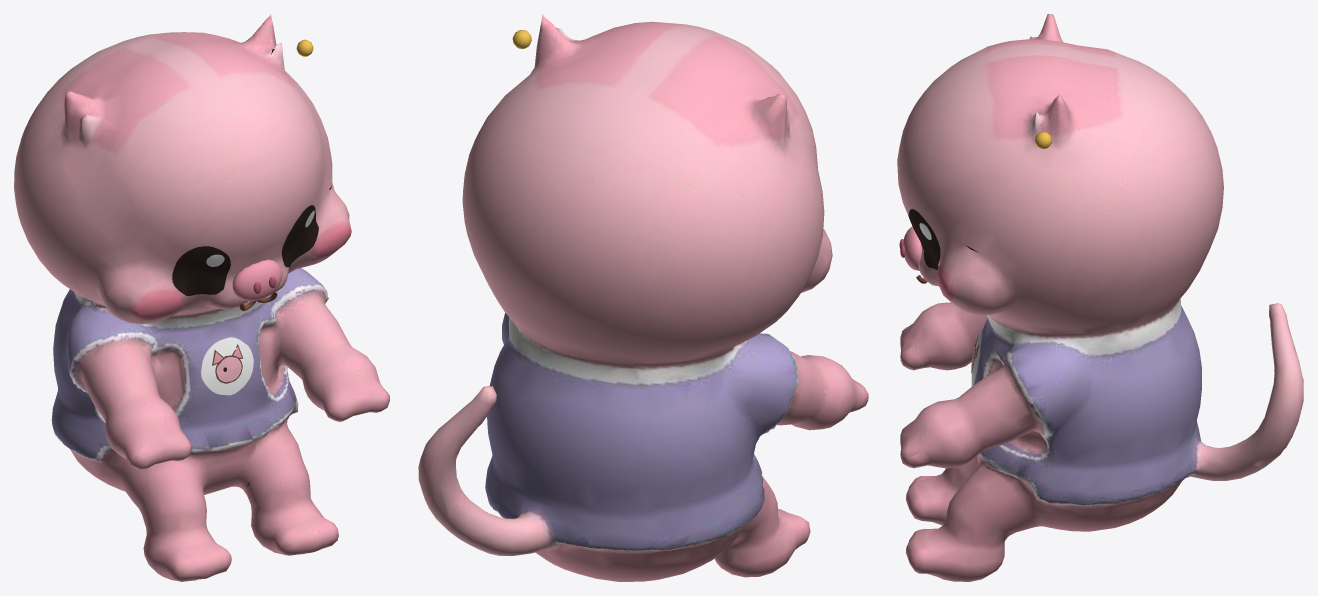
The model's file is pig.glb.
3 renders of one model, left to right at view 1: azimuth 30°, elevation 25°; view 2: azimuth 150°, elevation 25°; view 3: azimuth 270°, elevation 25°, orthographic. The views are drawn at different scales.
Parts seen in each view (by area): view 1: chibi, face; view 2: chibi; view 3: chibi, face.
Boxes of the visible parts, bbox=[...] form: chibi: bbox=[14, 14, 389, 581]; face: bbox=[172, 39, 318, 395]; chibi: bbox=[418, 14, 868, 581]; chibi: bbox=[897, 14, 1303, 581]; face: bbox=[899, 132, 1051, 386].
Bounding box in the file's own units: 0.6791 × 1.14 × 0.8406.
12 materials, 1 textured.
